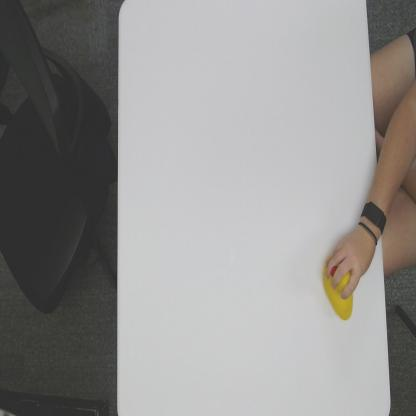Duck: (322, 255, 355, 322)
Hand: (324, 224, 378, 300)
